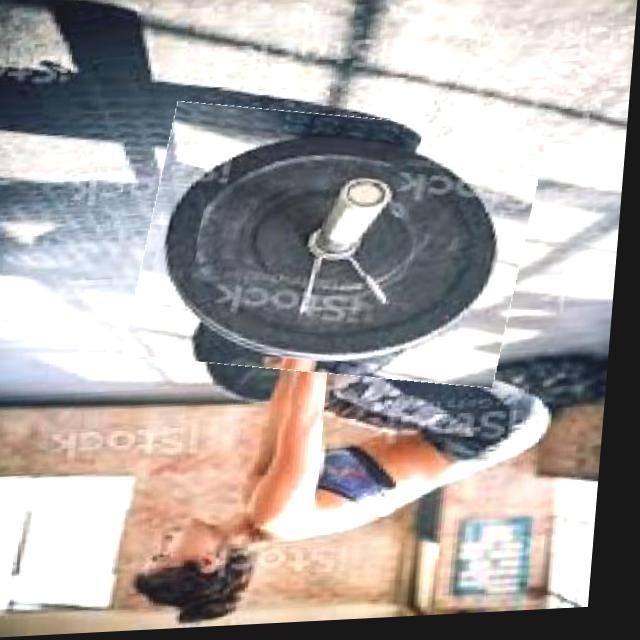barbell: (134, 102, 546, 397)
